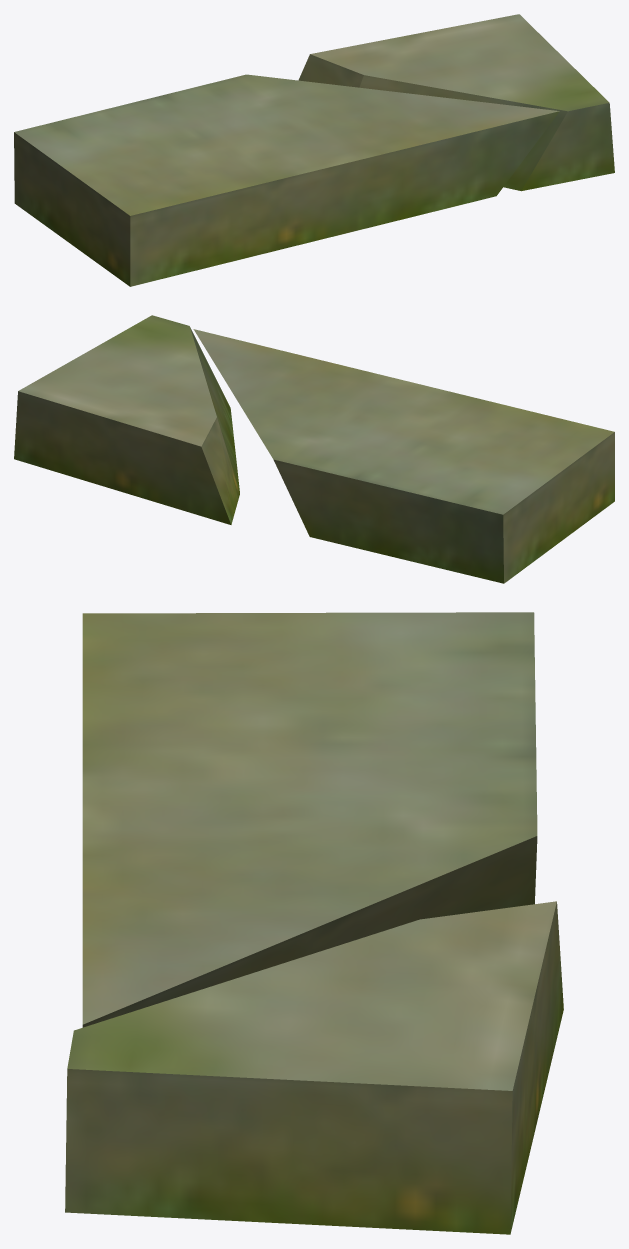
File: bx_ground_029.fbx
The picture shows the model from 3 angles, top to bottom: view 1: azimuth 30°, elevation 25°; view 2: azimuth 150°, elevation 25°; view 3: azimuth 270°, elevation 25°; orthographic projection. The views are drawn at different scales.
Visible parts, largest first — view 1: bx_ground_029; view 2: bx_ground_029; view 3: bx_ground_029.
Part boxes in pixels (left/top/right/bottom): bx_ground_029: left=14, top=14, right=614, bottom=286; bx_ground_029: left=14, top=315, right=614, bottom=583; bx_ground_029: left=65, top=612, right=563, bottom=1234.
Bounding box in the file's own units: 150 × 20.13 × 65.37.
